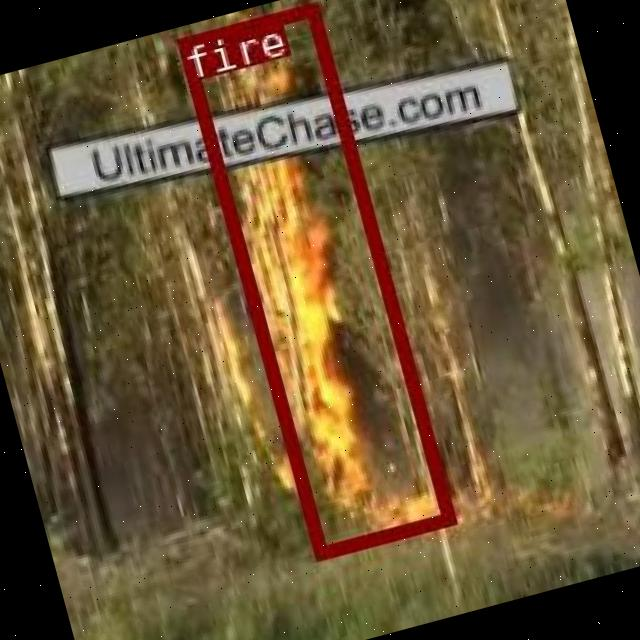fire: (174, 1, 455, 560)
